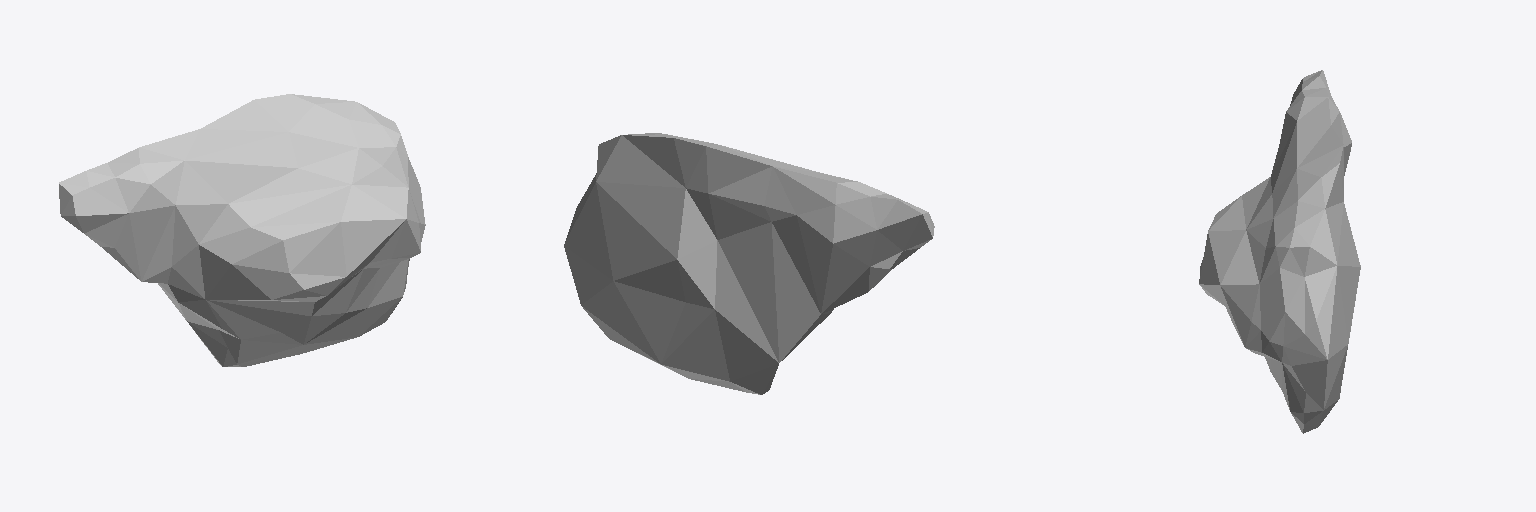
Rendered from Cloud.obj.
3 views of the same model, side by side, from view 1: azimuth 30°, elevation 25°; view 2: azimuth 150°, elevation 25°; view 3: azimuth 270°, elevation 25° (orthographic).
Parts seen in each view (by area): view 1: Object.1; view 2: Object.1; view 3: Object.1.
Part boxes in pixels (x1,y1,x2,y2): Object.1: (59,94,425,366); Object.1: (564,133,934,394); Object.1: (1199,70,1360,433).
Bounding box in the file's own units: 448 × 299 × 174.